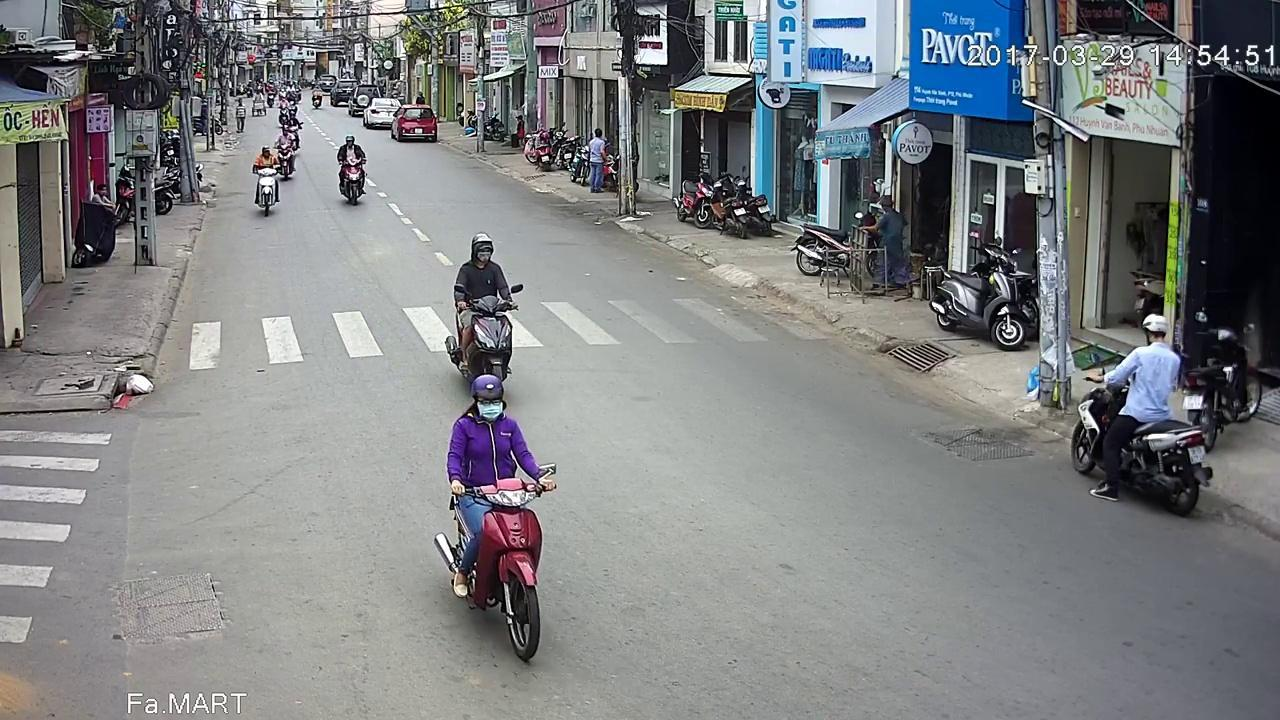xe hoi: (390, 101, 439, 138)
xe may: (435, 375, 560, 661), (1064, 312, 1210, 519), (444, 232, 524, 386), (335, 135, 367, 207), (250, 145, 280, 218), (273, 129, 298, 184)
